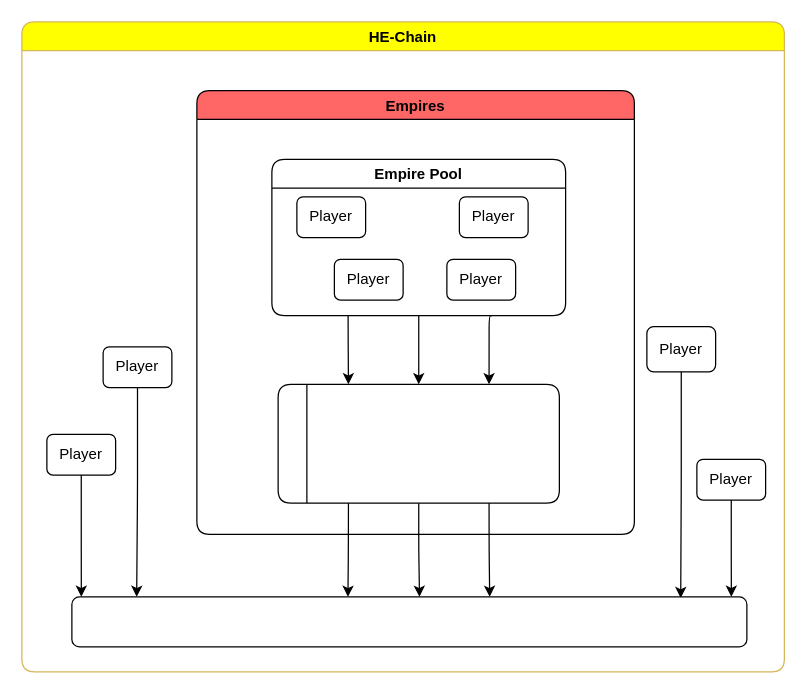
Some shapes in this 806 by 694 pixel diagram are drawn without their labels. The centre of each missing label's shape, as x and y in pixels:
"Smart Contracts" goes at (409,621).
"TX-Handler" goes at (418,443).
